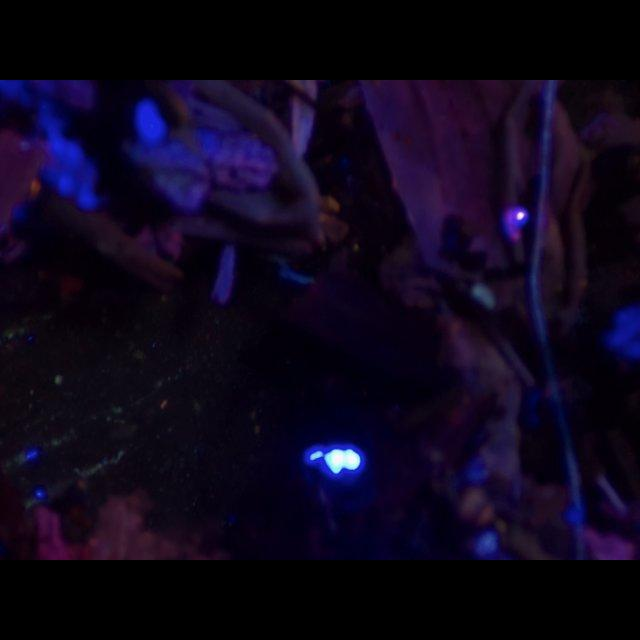microbeads: (52, 372, 64, 386)
